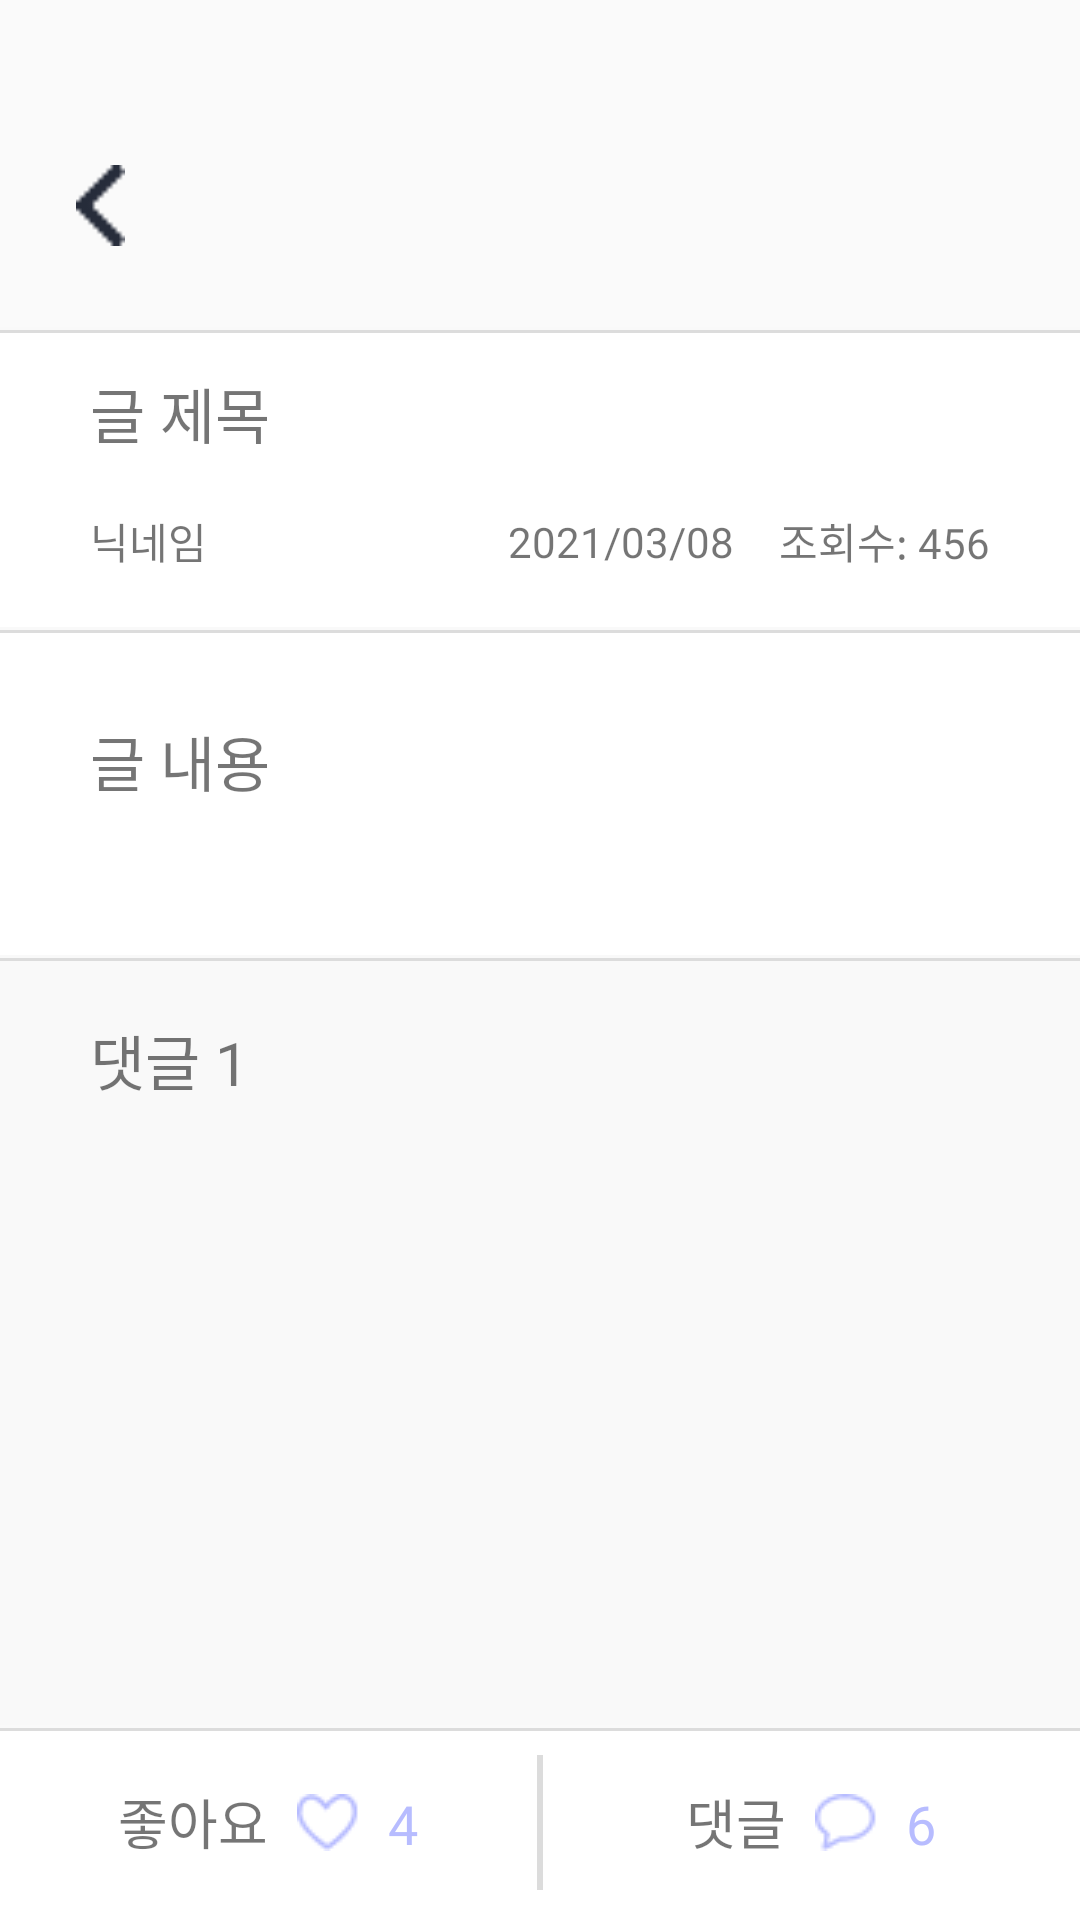

Screen size 1080 × 1920. Icon name, then its center in pixels as (x=x, y=y):
back: (x=100, y=205)
comment: (x=845, y=1822)
like empty: (x=327, y=1822)
